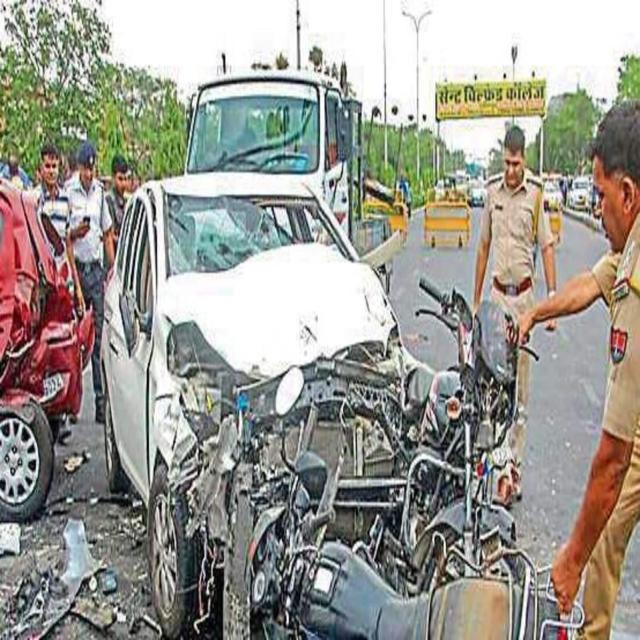accident: (102, 175, 410, 637), (244, 417, 580, 639), (330, 280, 519, 593)
